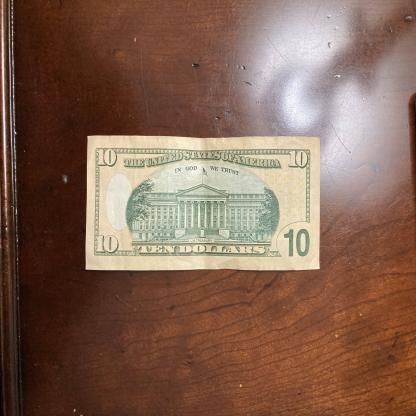ten-back: (84, 136, 322, 271)
